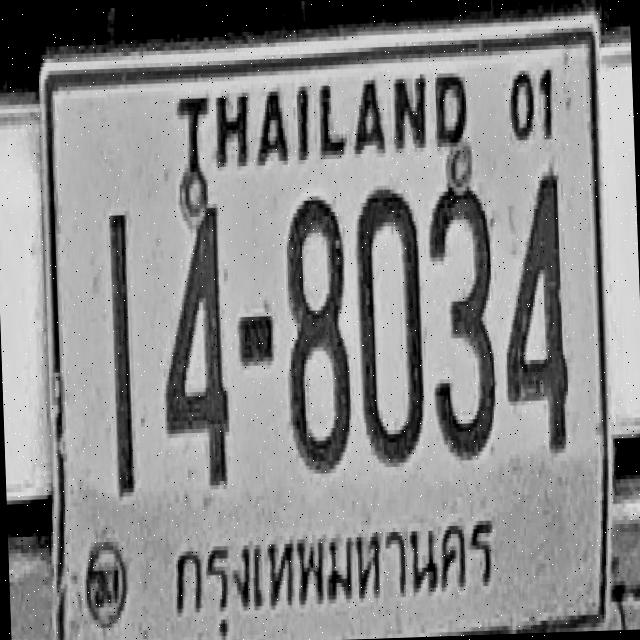0: (354, 184, 426, 463)
1: (106, 210, 136, 492)
3: (426, 174, 498, 456)
4: (157, 183, 231, 487), (498, 165, 570, 452)
8: (282, 190, 352, 470)
Bangkok: (160, 504, 507, 638)
